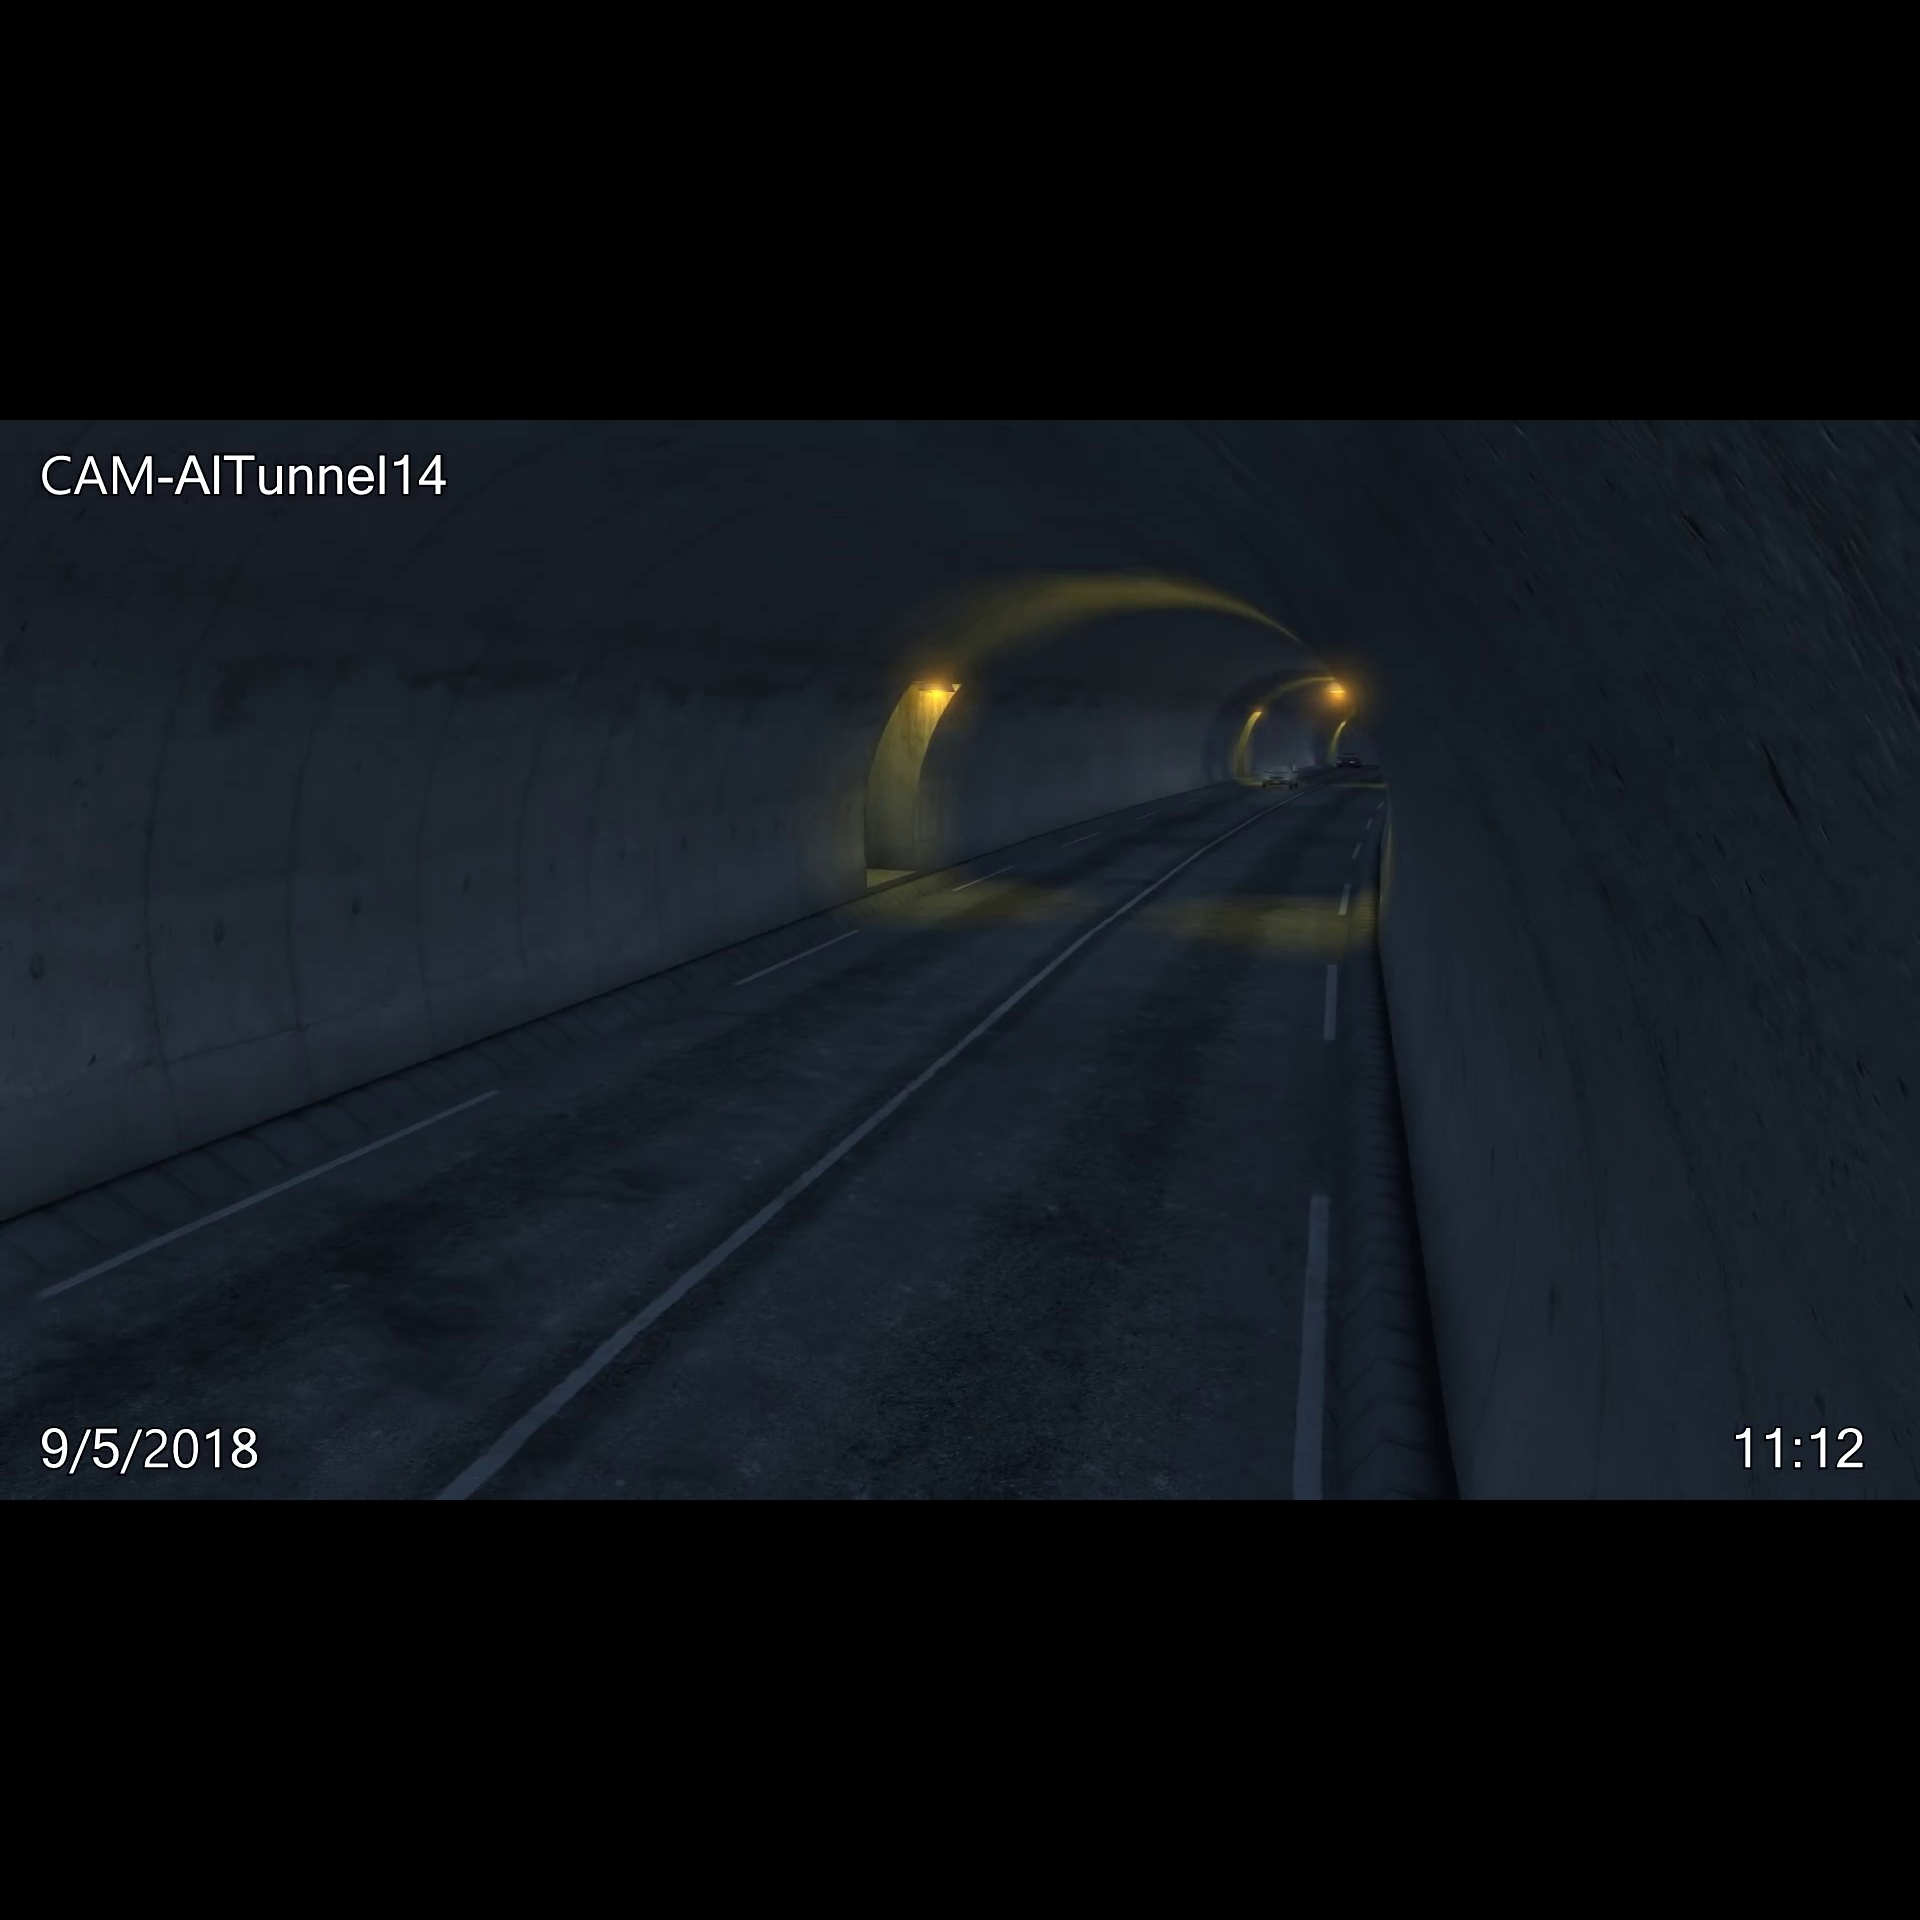vehicle: (1250, 758, 1306, 796), (1333, 751, 1364, 772)
